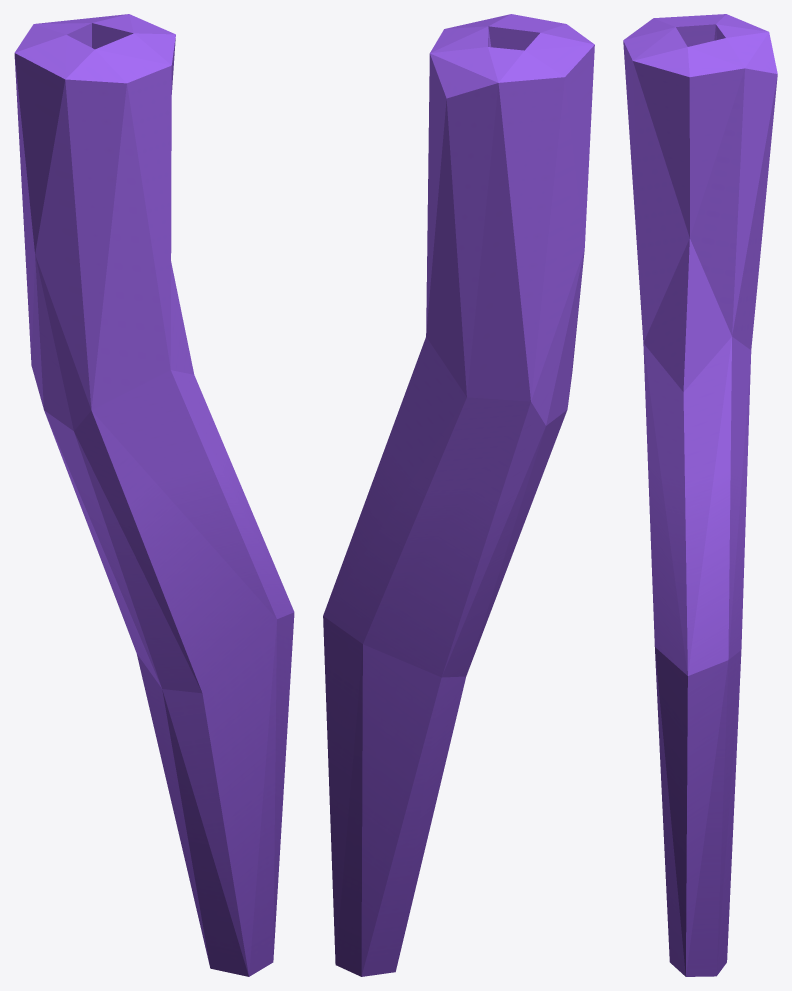
File: SM_Spongia_16.fbx
3 renders of one model, left to right at view 1: azimuth 30°, elevation 25°; view 2: azimuth 150°, elevation 25°; view 3: azimuth 270°, elevation 25°, orthographic. The views are drawn at different scales.
Parts seen in each view (by area): view 1: Spongia_16; view 2: Spongia_16; view 3: Spongia_16.
Boxes of the visible parts, x1,y1,x2,y2 form: Spongia_16: (14,14,294,976); Spongia_16: (323,14,594,976); Spongia_16: (623,14,777,976).
Bounding box in the file's own units: 19.87 × 70.61 × 11.38.
